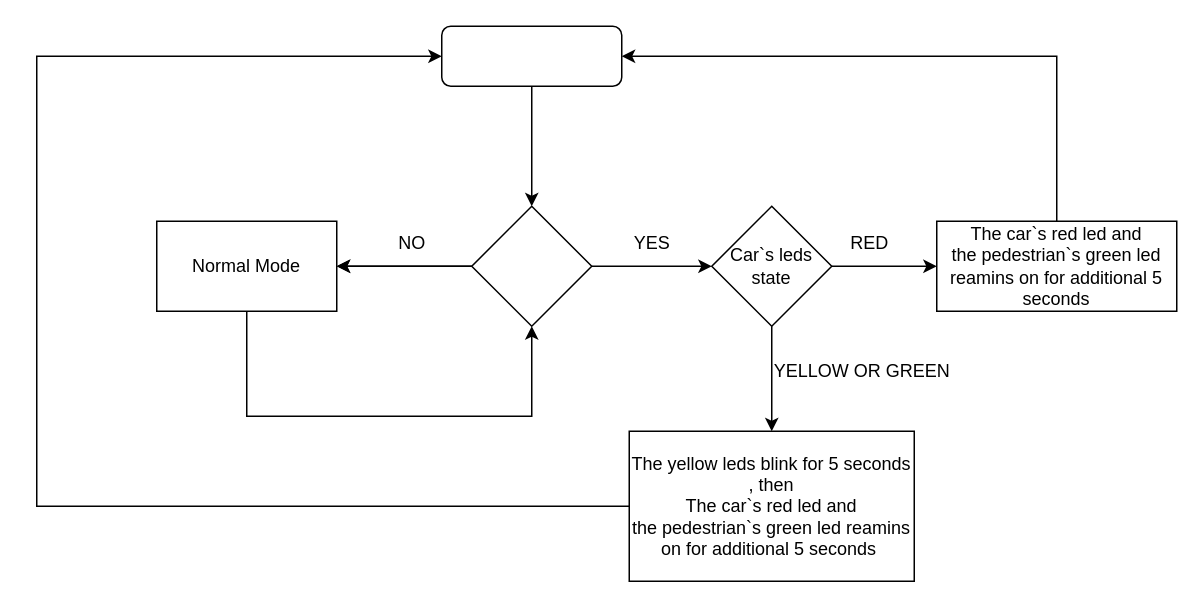
This 1203x608 diagram has some shape labels left out. Here are the shapes that lost their labels. From the top down, the centre of each, then its label:
At point (531, 55): "Start".
At point (531, 265): "Interrupt?".
